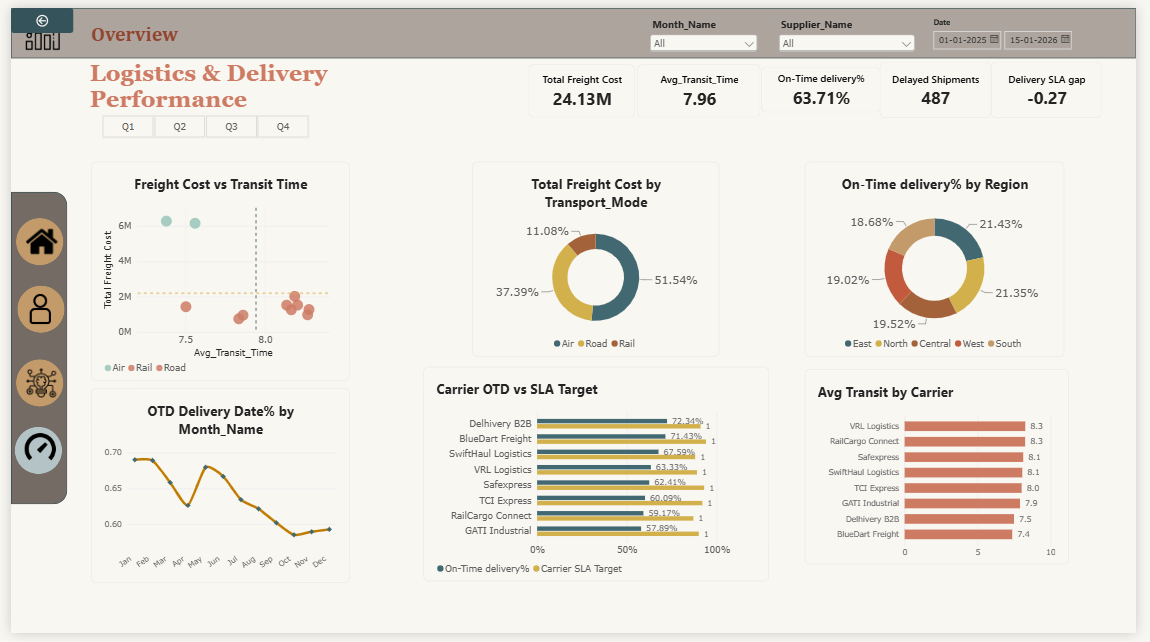

This screenshot's page, from the dashboard's own definition file:
{"tool":"powerbi","page":{"name":"Logistics Performance","canvas":[1800,1000],"ordinal":3},"visuals":[{"type":"shape","box":[0,0,1800.3,80.5],"z":0},{"type":"textbox","box":[127.4,21.8,201.2,46.9],"z":1000},{"type":"image","box":[10,13.3,81.7,55],"z":2000},{"type":"cardVisual","fields":{"Data":["3rd page measures.Total Freight Cost"]},"box":[827.8,90.5,170.9,85.5],"z":3000},{"type":"cardVisual","fields":{"Data":["3rd page measures.Avg_Transit_Time"]},"box":[1002,90.5,197.7,85.5],"z":4000},{"type":"cardVisual","fields":{"Data":["1st page measures.On-Time delivery%"]},"box":[1199.7,93.8,191,73.7],"z":5000},{"type":"cardVisual","fields":{"Data":["1st page measures.Delayed Shipments"]},"box":[1390.8,85.5,177.6,90.5],"z":6000},{"type":"textbox","box":[125.7,82.1,625,95.5],"z":7000},{"type":"slicer","fields":{"Values":["Dim_date.Month_Name"]},"box":[1018.8,13.4,181,67],"z":8000},{"type":"slicer","fields":{"Values":["Dim_Supplier.Supplier_Name"]},"box":[1223.2,13.4,226.2,67],"z":9000},{"type":"slicer","fields":{"Values":["Dim_date.Date"]},"box":[1467.8,13.4,306.6,55.3],"z":10000},{"type":"slicer","fields":{"Values":["Dim_date.Quarter"]},"box":[125.7,170.9,368.6,38.5],"z":11000},{"type":"cardVisual","fields":{"Data":["3rd page measures.Delivery SLA gap"]},"box":[1568.4,85.5,177.6,90.5],"z":12000},{"type":"scatterChart","title":"Freight Cost vs Transit Time","fields":{"Category":["Dim_Carrier.Carrier_Name"],"Series":["Fact_Procurement.Transport_Mode"],"X":["3rd page measures.Avg_Transit_Time"],"Y":["3rd page measures.Total Freight Cost"]},"box":[128,246,413.9,350.2],"z":13000},{"type":"actionButton","box":[0,0,100,40],"z":14000},{"type":"clusteredBarChart","title":"Carrier OTD vs SLA Target","fields":{"Category":["Dim_Carrier.Carrier_Name"],"Y":["1st page measures.On-Time delivery%","3rd page measures.Carrier SLA Target"]},"box":[660,574,553,343.5],"z":15000},{"type":"donutChart","fields":{"Category":["Fact_Procurement.Transport_Mode"],"Y":["3rd page measures.Total Freight Cost"]},"box":[738,246,395.4,311.7],"z":16000},{"type":"clusteredBarChart","title":"Avg Transit by Carrier","fields":{"Category":["Dim_Carrier.Carrier_Name"],"Y":["3rd page measures.Avg_Transit_Time"]},"box":[1270,578,422.3,311.7],"z":17000},{"type":"pieChart","fields":{"Category":["Dim_Warehouse.Region"],"Y":["1st page measures.On-Time delivery%"]},"box":[1270,246,415.6,311.7],"z":18000},{"type":"lineChart","fields":{"Category":["Dim_date.Month_Name"],"Y":["3rd page measures.OTD Delivery Date%"]},"box":[128,608,413.9,311.7],"z":19000},{"type":"shape","box":[0,293,90,500],"z":20000},{"type":"shape","box":[6.5,669.4,75.8,75.8],"z":21000},{"type":"shape","box":[8.1,562.9,75.8,75.8],"z":22000},{"type":"shape","box":[10,443.3,75.8,75.8],"z":23000},{"type":"shape","box":[8.1,335.5,75.8,75.8],"z":24000},{"type":"image","box":[23.3,345,50,55],"z":25000},{"type":"image","box":[6.7,453.3,81.7,55],"z":26000},{"type":"image","box":[15,576.7,65,48.3],"z":27000},{"type":"image","box":[5,678.3,81.7,55],"z":28000}]}

Visuals, with their boxes in screenshot pixels (x1, y1, x2, y2), scaled from the page's 1800x1000 canvas onto the 1150x642 screenshot:
shape: pyautogui.locateOnScreen(0, 0, 1149, 52)
textbox: pyautogui.locateOnScreen(81, 14, 210, 44)
image: pyautogui.locateOnScreen(6, 9, 59, 44)
cardVisual - 3rd page measures.Total Freight Cost: pyautogui.locateOnScreen(529, 58, 638, 113)
cardVisual - 3rd page measures.Avg_Transit_Time: pyautogui.locateOnScreen(640, 58, 766, 113)
cardVisual - 1st page measures.On-Time delivery%: pyautogui.locateOnScreen(766, 60, 889, 108)
cardVisual - 1st page measures.Delayed Shipments: pyautogui.locateOnScreen(889, 55, 1002, 113)
textbox: pyautogui.locateOnScreen(80, 53, 480, 114)
slicer - Dim_date.Month_Name: pyautogui.locateOnScreen(651, 9, 767, 52)
slicer - Dim_Supplier.Supplier_Name: pyautogui.locateOnScreen(781, 9, 926, 52)
slicer - Dim_date.Date: pyautogui.locateOnScreen(938, 9, 1134, 44)
slicer - Dim_date.Quarter: pyautogui.locateOnScreen(80, 110, 316, 134)
cardVisual - 3rd page measures.Delivery SLA gap: pyautogui.locateOnScreen(1002, 55, 1116, 113)
"Freight Cost vs Transit Time" scatterChart: pyautogui.locateOnScreen(82, 158, 346, 383)
actionButton: pyautogui.locateOnScreen(0, 0, 64, 26)
"Carrier OTD vs SLA Target" clusteredBarChart: pyautogui.locateOnScreen(422, 369, 775, 589)
donutChart - Fact_Procurement.Transport_Mode x 3rd page measures.Total Freight Cost: pyautogui.locateOnScreen(471, 158, 724, 358)
"Avg Transit by Carrier" clusteredBarChart: pyautogui.locateOnScreen(811, 371, 1081, 571)
pieChart - Dim_Warehouse.Region x 1st page measures.On-Time delivery%: pyautogui.locateOnScreen(811, 158, 1077, 358)
lineChart - Dim_date.Month_Name x 3rd page measures.OTD Delivery Date%: pyautogui.locateOnScreen(82, 390, 346, 590)
shape: pyautogui.locateOnScreen(0, 188, 57, 509)
shape: pyautogui.locateOnScreen(4, 430, 53, 478)
shape: pyautogui.locateOnScreen(5, 361, 54, 410)
shape: pyautogui.locateOnScreen(6, 285, 55, 333)
shape: pyautogui.locateOnScreen(5, 215, 54, 264)
image: pyautogui.locateOnScreen(15, 221, 47, 257)
image: pyautogui.locateOnScreen(4, 291, 56, 326)
image: pyautogui.locateOnScreen(10, 370, 51, 401)
image: pyautogui.locateOnScreen(3, 435, 55, 471)
